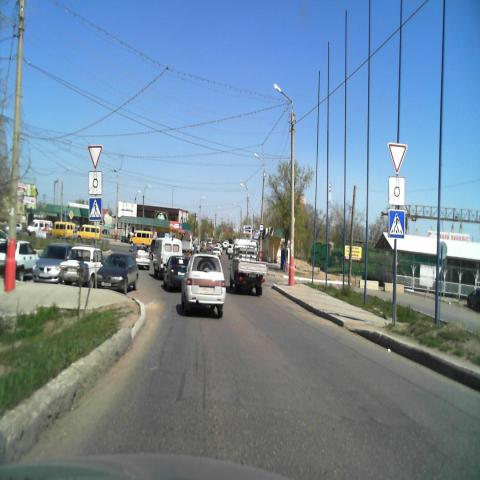8_13_1: (388, 176, 405, 206), (88, 171, 102, 194)
